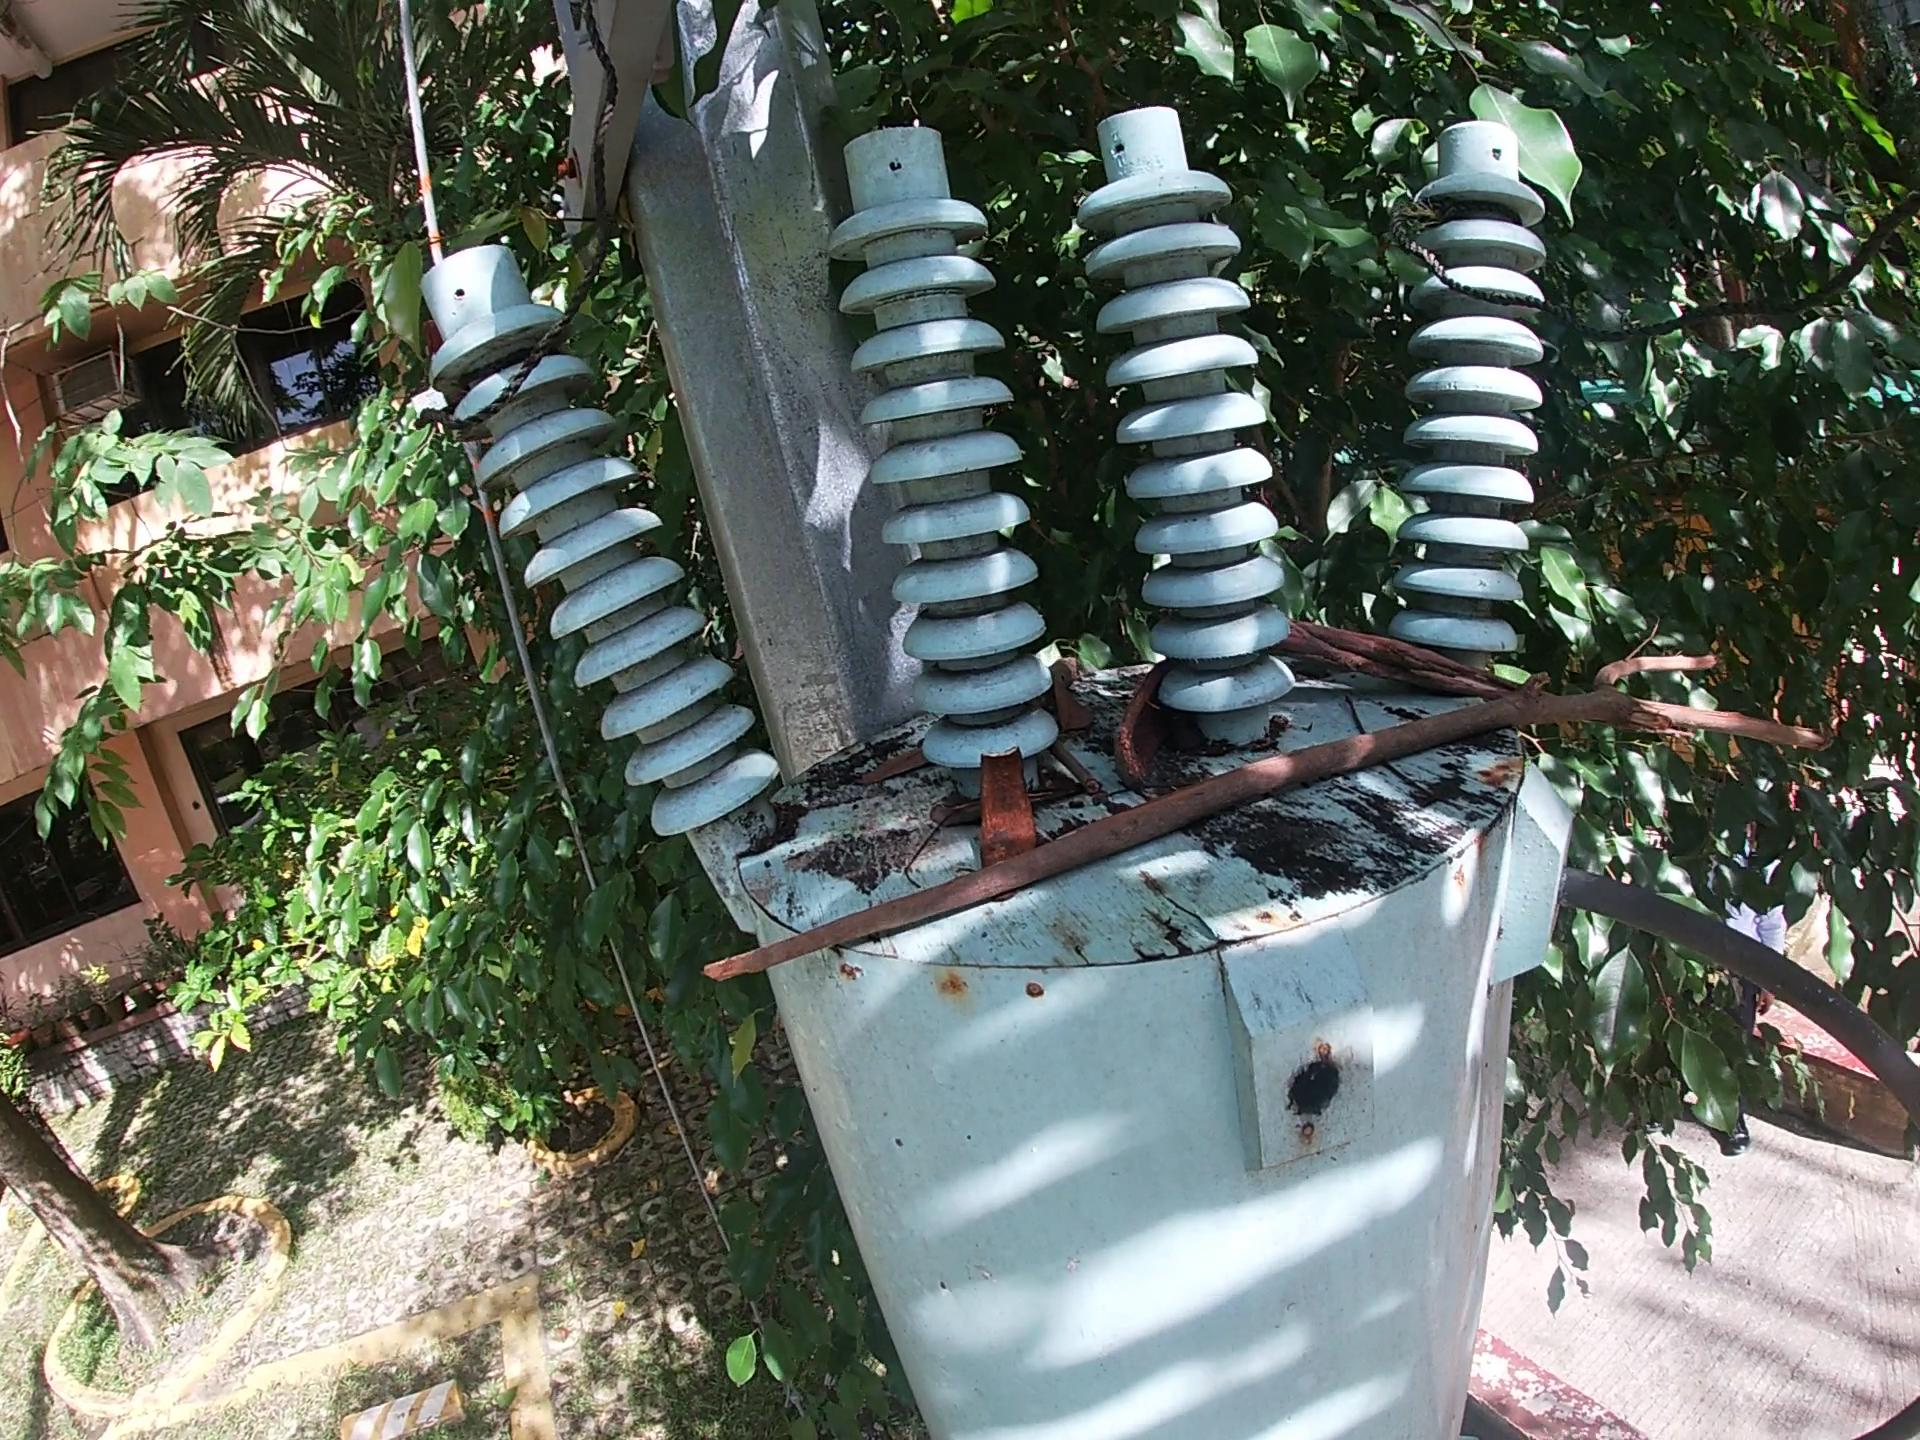leaf: (1046, 656, 1105, 746), (848, 740, 937, 793)
mahogany fruit: (968, 746, 1049, 871), (1110, 655, 1182, 796)
tree branch: (698, 641, 1850, 989), (1274, 613, 1665, 731)
